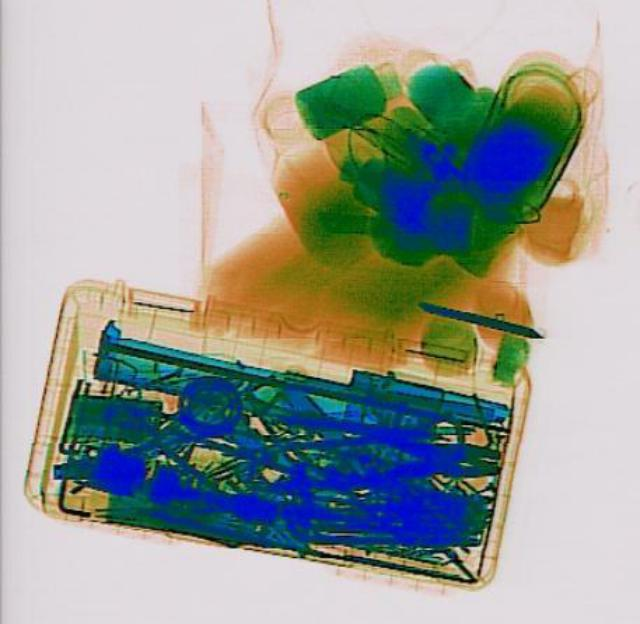Pliers: (268, 416, 498, 491)
